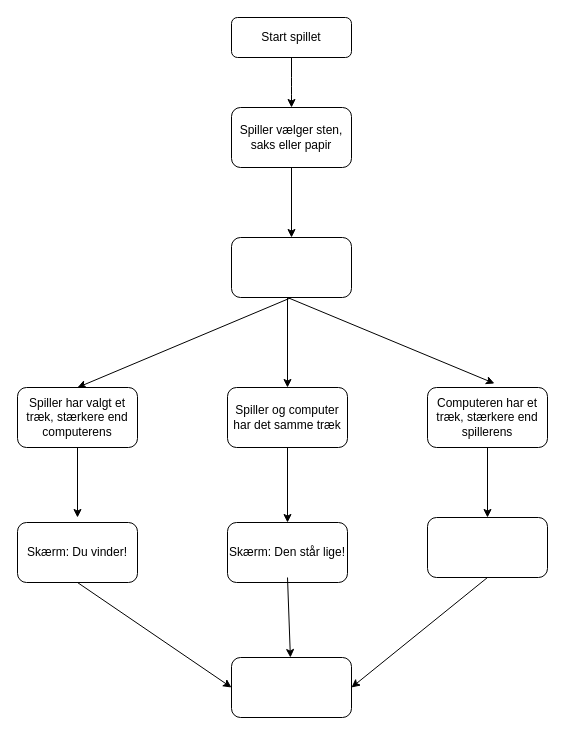
The diagram is 565 pixels wide and 735 high, and some of its shapes have lost their labels. The shapes that lost their labels are listed below. From the top down, each one's box as (x1, y1, x2, y2) in pixels, then its label:
(230, 236, 352, 298): javaScript genererer et random move
(426, 516, 548, 578): Skærm: Du taber!
(230, 656, 352, 718): Spilet er slut. Prøv igen?
